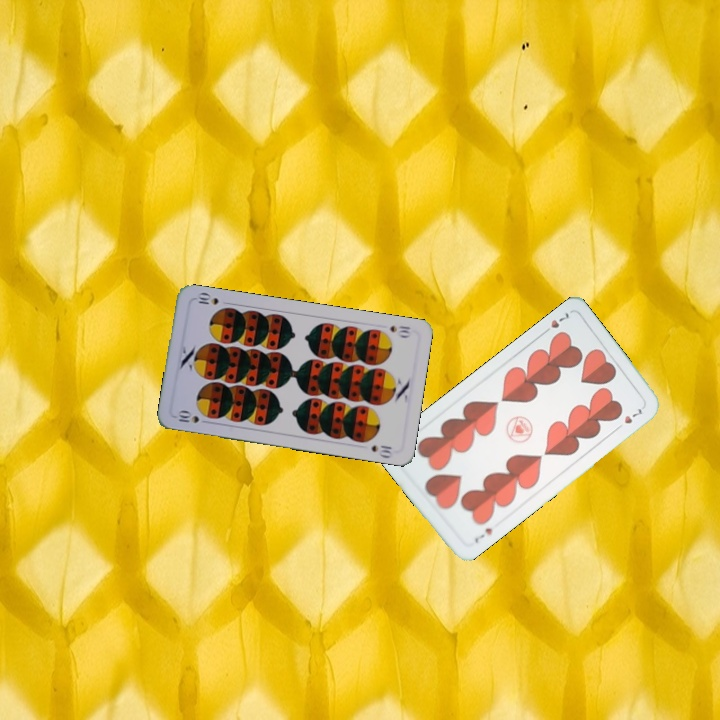H7: (538, 308, 572, 337), (471, 524, 495, 546)
S10: (172, 407, 212, 426), (385, 321, 413, 340)
